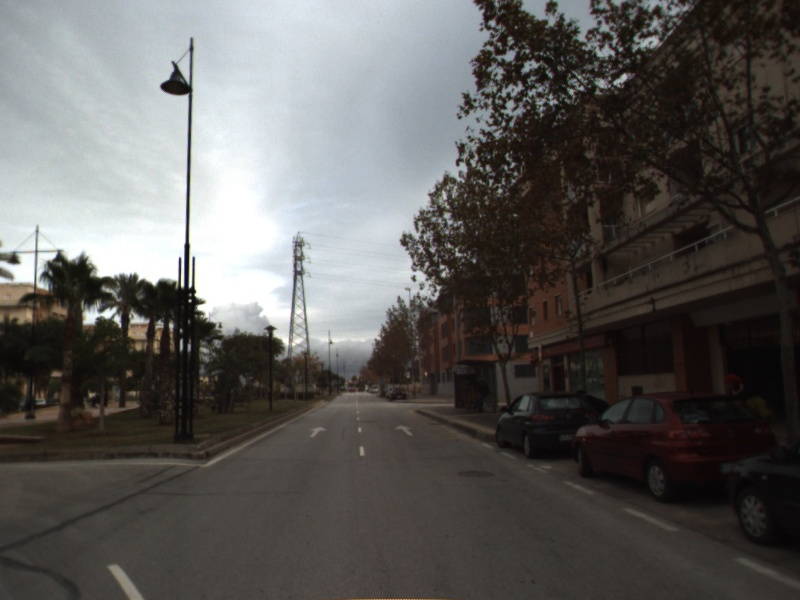STRAIGHT: (307, 424, 329, 439), (393, 423, 416, 437)
